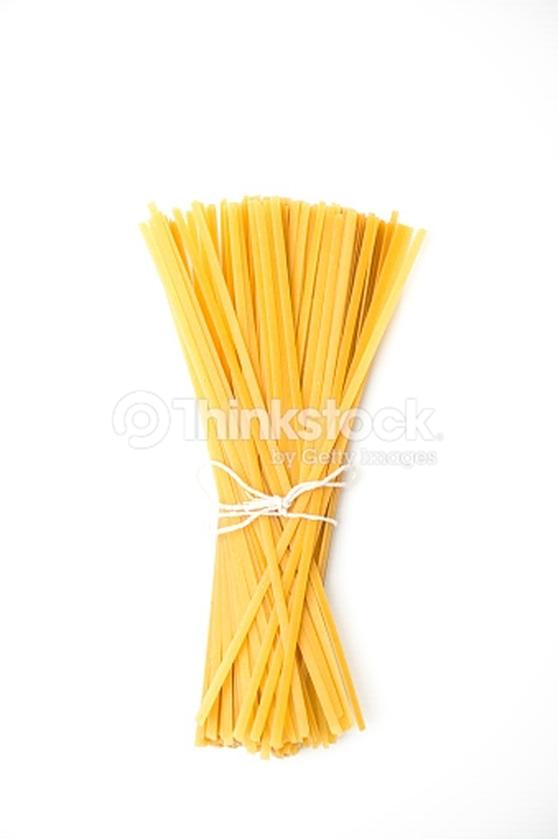spaghetti: (141, 195, 410, 748)
